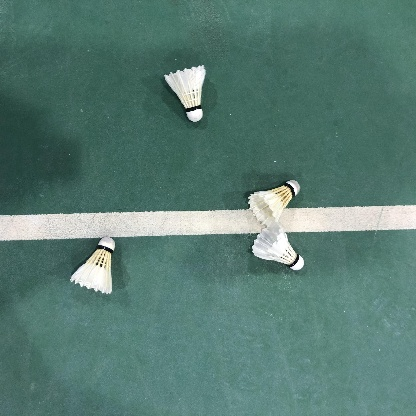ball_single: (70, 237, 115, 294), (247, 180, 300, 227), (163, 65, 206, 122), (252, 224, 304, 270)
